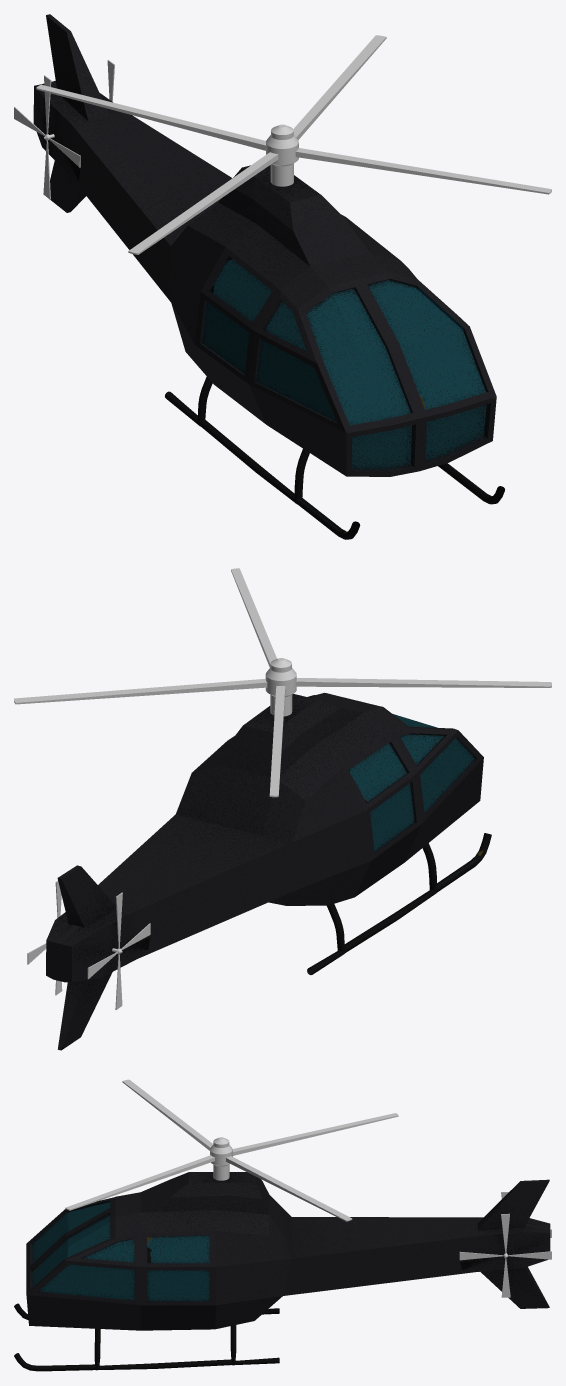
Rendered from anim_000017.obj.
The picture shows the model from 3 angles, top to bottom: view 1: azimuth 30°, elevation 25°; view 2: azimuth 150°, elevation 25°; view 3: azimuth 270°, elevation 25°; orthographic projection. The views are drawn at different scales.
Visible parts, largest first — view 1: Helicopter.007_Cylinder.008, Helicopter.001_Cylinder.001, Helicopter.004_Cylinder.005; view 2: Helicopter.007_Cylinder.008, Helicopter.001_Cylinder.001, Helicopter.004_Cylinder.005; view 3: Helicopter.007_Cylinder.008, Helicopter.001_Cylinder.001, Helicopter.003_Cylinder.004.
Boxes of the visible parts, x1,y1,x2,y2 form: Helicopter.007_Cylinder.008: (33,14,504,539); Helicopter.001_Cylinder.001: (36,35,551,254); Helicopter.004_Cylinder.005: (14,75,80,199); Helicopter.007_Cylinder.008: (46,692,491,1050); Helicopter.001_Cylinder.001: (14,568,551,797); Helicopter.004_Cylinder.005: (87,892,150,1009); Helicopter.007_Cylinder.008: (14,1172,550,1371); Helicopter.001_Cylinder.001: (65,1079,398,1221); Helicopter.003_Cylinder.004: (459,1213,551,1297).
Size of the model in its own units: 4.66 by 3.21 by 7.51.
